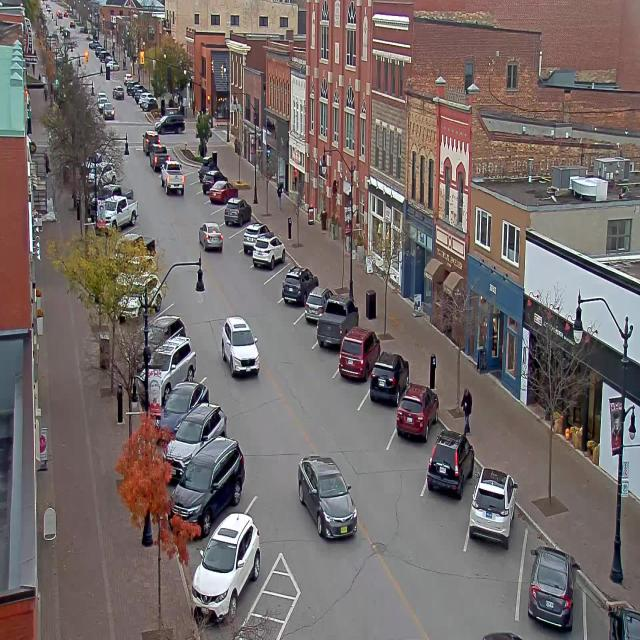available: (226, 220, 250, 254), (268, 260, 291, 292), (210, 203, 226, 226), (186, 163, 201, 187)
occupied: (169, 435, 245, 538), (193, 507, 265, 614), (527, 544, 579, 631), (468, 466, 518, 547), (154, 380, 208, 441), (172, 396, 231, 451), (427, 429, 474, 497), (587, 584, 638, 640), (145, 335, 200, 381), (394, 382, 432, 448), (335, 326, 376, 386), (368, 350, 409, 406), (316, 296, 358, 349), (282, 265, 318, 304), (252, 232, 285, 269), (242, 221, 276, 251), (224, 196, 251, 226), (304, 287, 328, 320), (209, 179, 237, 203), (200, 168, 224, 193), (197, 156, 216, 180)
